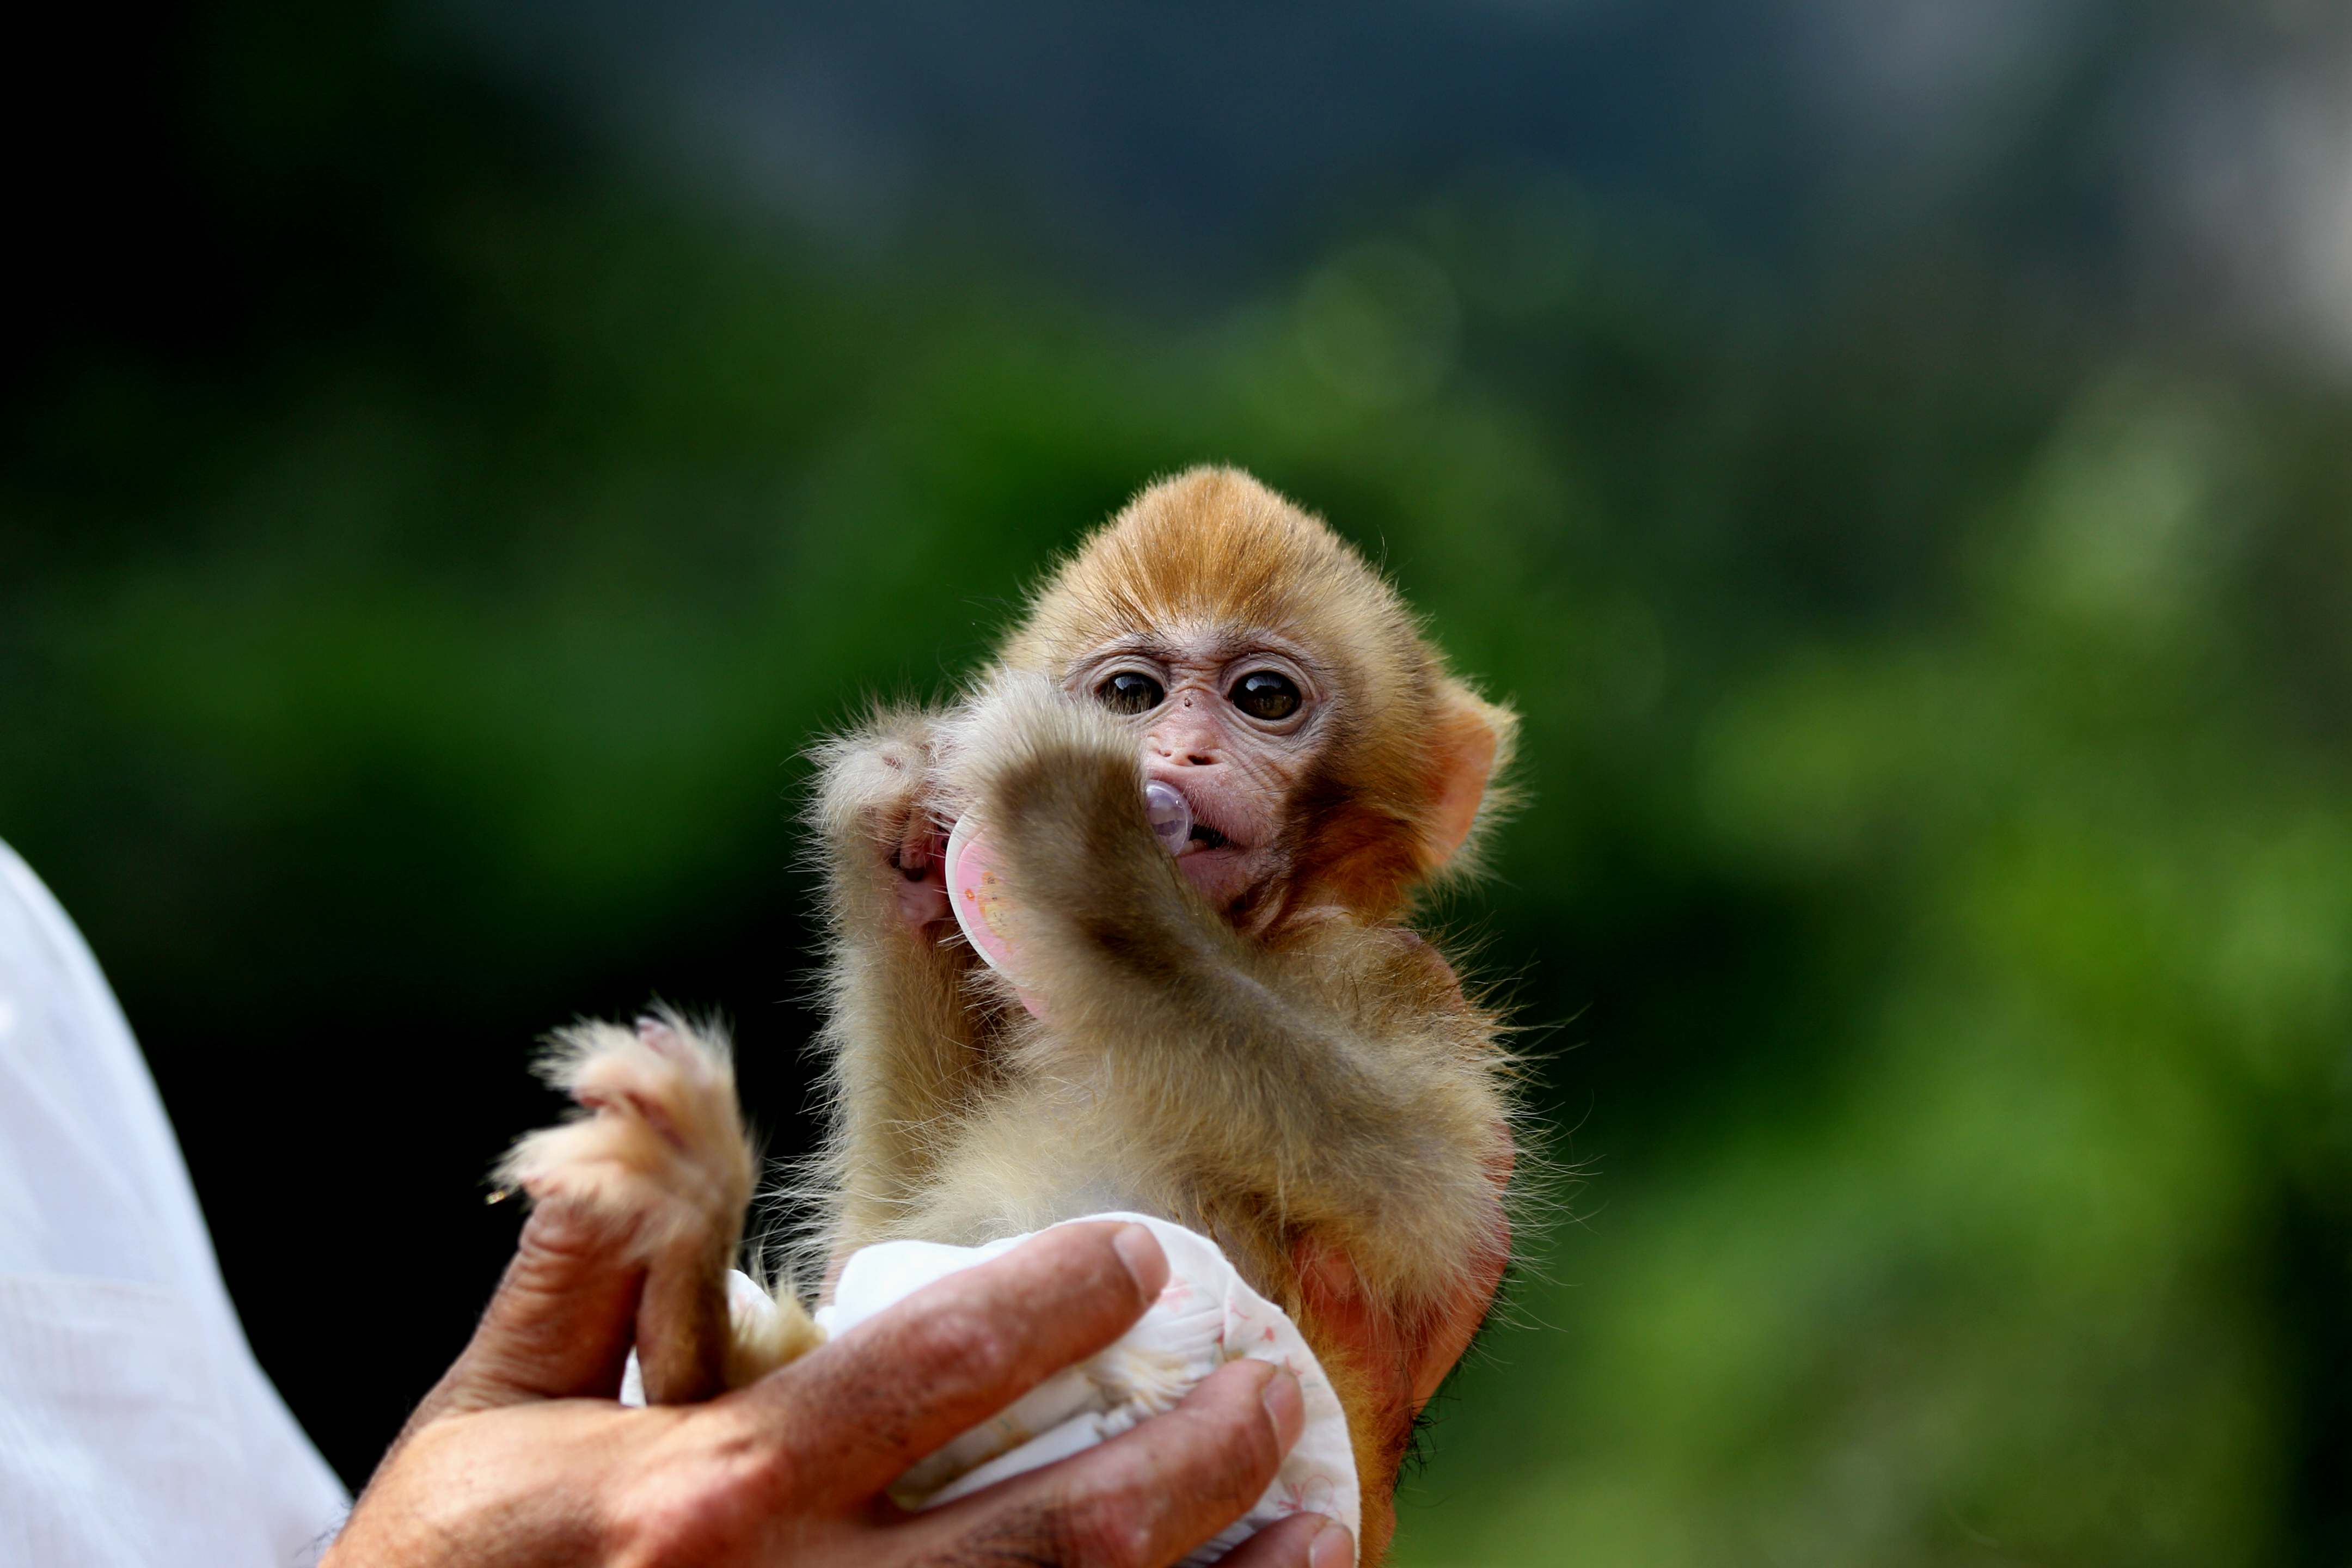monkey_body: (661, 692, 1542, 1469)
monkey_face: (827, 460, 1577, 987)
